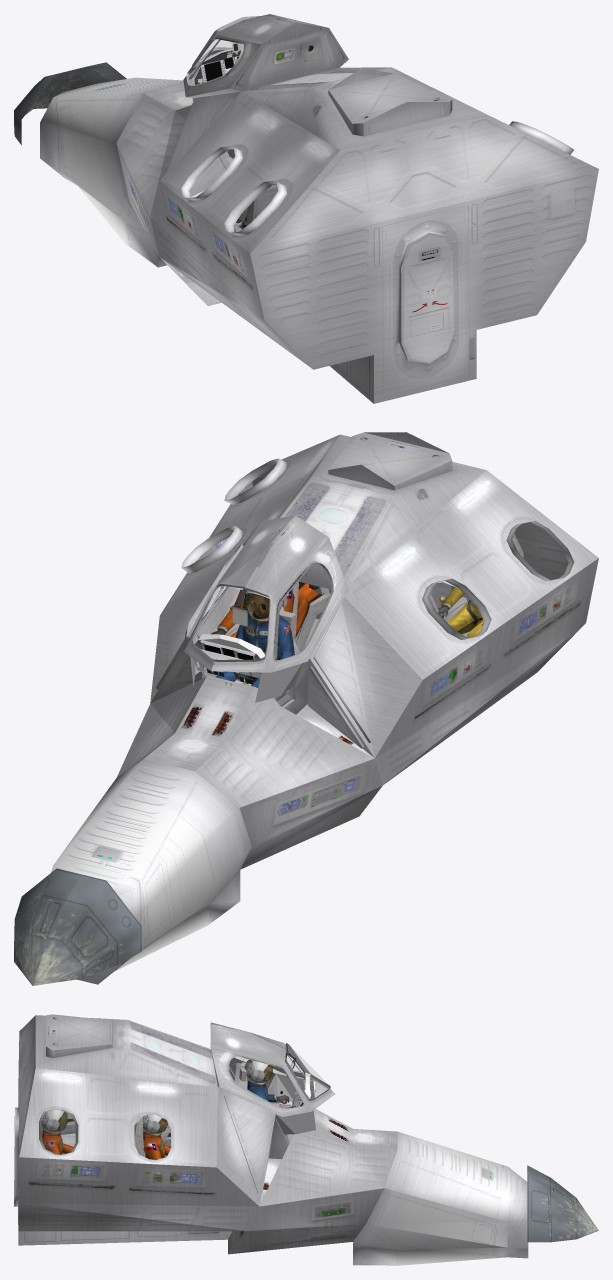
File: deltaglider_vc.obj
3 renders of one model, top to bottom at view 1: azimuth 30°, elevation 25°; view 2: azimuth 150°, elevation 25°; view 3: azimuth 270°, elevation 25°, orthographic. The views are drawn at different scales.
Visible parts, largest first — view 1: group9, group3, group8, group0, HATCH, group26, group15, NOSECONE_R, group37, group36, group77, NOSECONE_L (+2 smaller); view 2: group3, group8, NOSECONE_L, group37, group26, NOSECONE_R, HATCH, group36, group77, group9, group15, group62 (+5 smaller); view 3: group3, group8, NOSECONE_R, group37, group9, HATCH, group38, group77, group18, PASSENGER3, PASSENGER4, group7 (+6 smaller).
Part boxes in pixels (<box>): group9: <box>250,114,598,403</box>; group3: <box>116,54,569,403</box>; group8: <box>40,77,183,267</box>; group0: <box>230,22,348,91</box>; HATCH: <box>328,73,451,123</box>; group26: <box>181,121,573,235</box>; group15: <box>328,68,452,136</box>; NOSECONE_R: <box>34,62,126,108</box>; group37: <box>189,14,326,74</box>; group36: <box>183,35,261,97</box>; group77: <box>205,40,277,231</box>; NOSECONE_L: <box>14,69,76,145</box>; group3: <box>117,434,598,869</box>; group8: <box>51,759,251,971</box>; NOSECONE_L: <box>32,874,141,985</box>; group37: <box>183,515,328,672</box>; group26: <box>181,458,574,639</box>; NOSECONE_R: <box>14,868,81,985</box>; HATCH: <box>328,432,451,485</box>; group36: <box>271,538,348,672</box>; group77: <box>225,459,573,579</box>; group9: <box>252,468,568,619</box>; group15: <box>328,432,452,490</box>; group62: <box>215,611,294,687</box>; group3: <box>18,1015,397,1254</box>; group8: <box>353,1132,528,1265</box>; NOSECONE_R: <box>527,1174,598,1242</box>; group37: <box>210,1022,335,1111</box>; group9: <box>14,1015,35,1224</box>; HATCH: <box>46,1014,112,1050</box>; group38: <box>211,1047,311,1116</box>; group77: <box>42,1053,324,1154</box>; group18: <box>276,1073,315,1134</box>; PASSENGER3: <box>143,1114,170,1159</box>; PASSENGER4: <box>41,1109,73,1154</box>; group7: <box>41,1062,288,1156</box>.
Size of the model in its own units: 3.49 by 2.97 by 6.85.
Materials: 60 (51 with a texture image).
